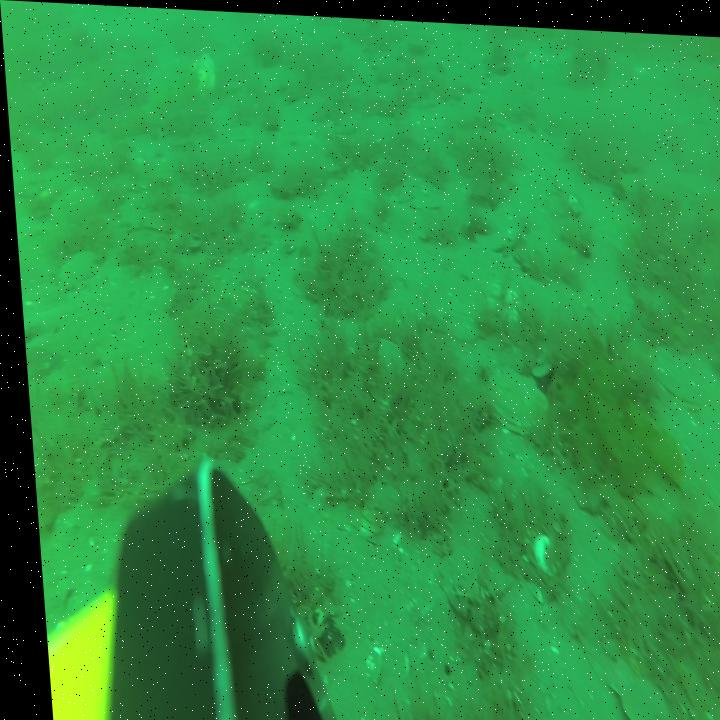scallop: (483, 362, 542, 427), (641, 337, 700, 402), (600, 660, 657, 720), (355, 331, 401, 403), (480, 276, 517, 320), (53, 250, 91, 289), (187, 48, 217, 97), (720, 351, 720, 395)
